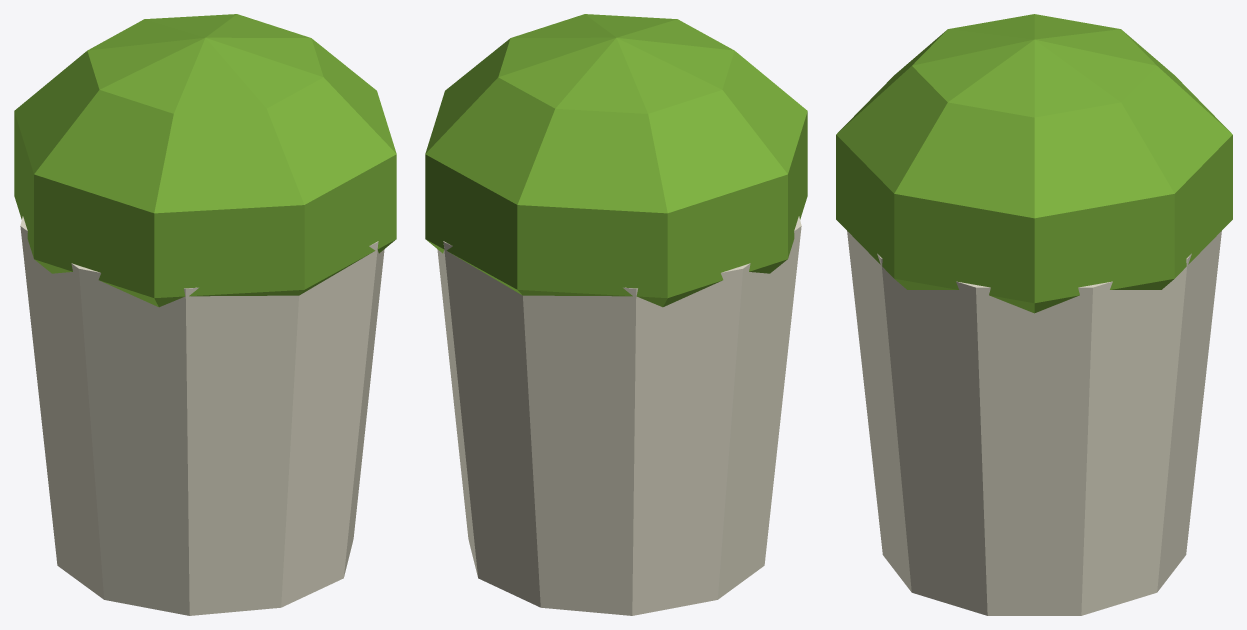
File: super_old_yogurt.glb
3 views of the same model, side by side, from view 1: azimuth 30°, elevation 25°; view 2: azimuth 150°, elevation 25°; view 3: azimuth 270°, elevation 25° (orthographic).
Visible parts, largest first — view 1: cup_yogurt_cup, lid_yogurt_green; view 2: cup_yogurt_cup, lid_yogurt_green; view 3: cup_yogurt_cup, lid_yogurt_green.
Boxes of the visible parts, bbox=[...] form: cup_yogurt_cup: bbox=[20, 216, 384, 615]; lid_yogurt_green: bbox=[14, 14, 396, 307]; cup_yogurt_cup: bbox=[437, 216, 801, 615]; lid_yogurt_green: bbox=[425, 14, 807, 307]; cup_yogurt_cup: bbox=[847, 231, 1221, 615]; lid_yogurt_green: bbox=[836, 14, 1232, 313].
Size of the model in its own units: 0.1046 by 0.15 by 0.1046.
